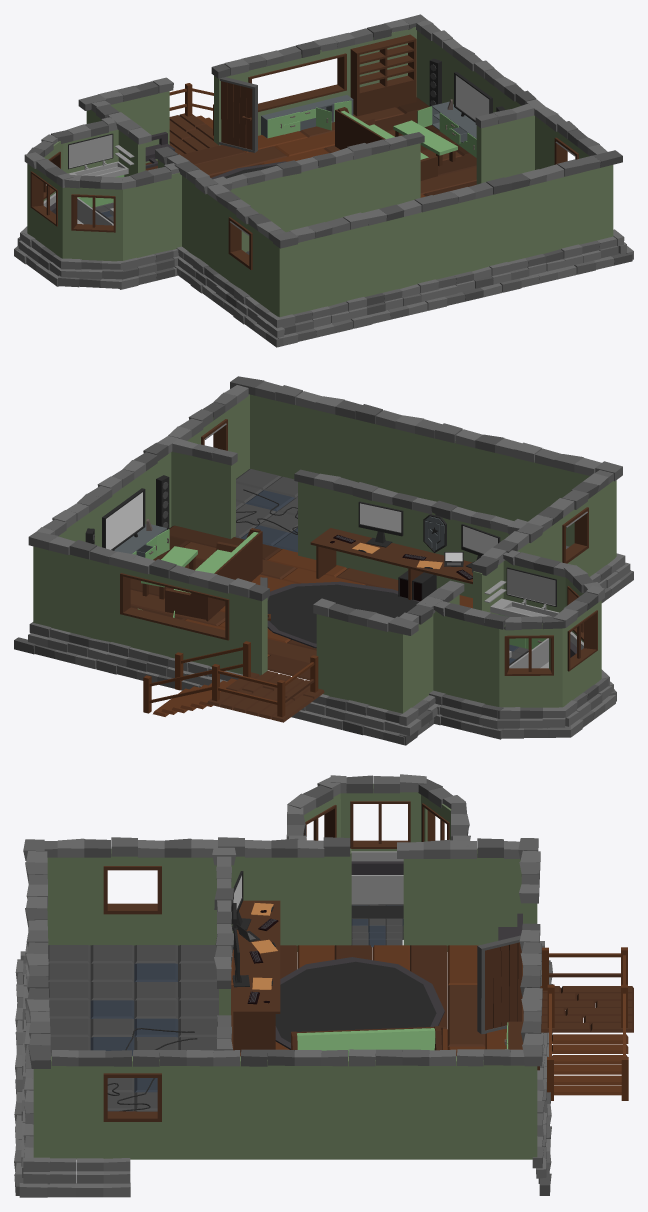
File: HOME.fbx
3 renders of one model, top to bottom at view 1: azimuth 30°, elevation 25°; view 2: azimuth 150°, elevation 25°; view 3: azimuth 270°, elevation 25°, orthographic. The views are drawn at different scales.
Parts seen in each view (by area): view 1: Cube.190; view 2: Cube.190; view 3: Cube.190.
Part boxes in pixels (box(x1,y1,x2,y2)): Cube.190: box(14, 14, 633, 347); Cube.190: box(14, 376, 633, 745); Cube.190: box(14, 774, 633, 1197).
Size of the model in its own units: 917 by 197 by 815.
